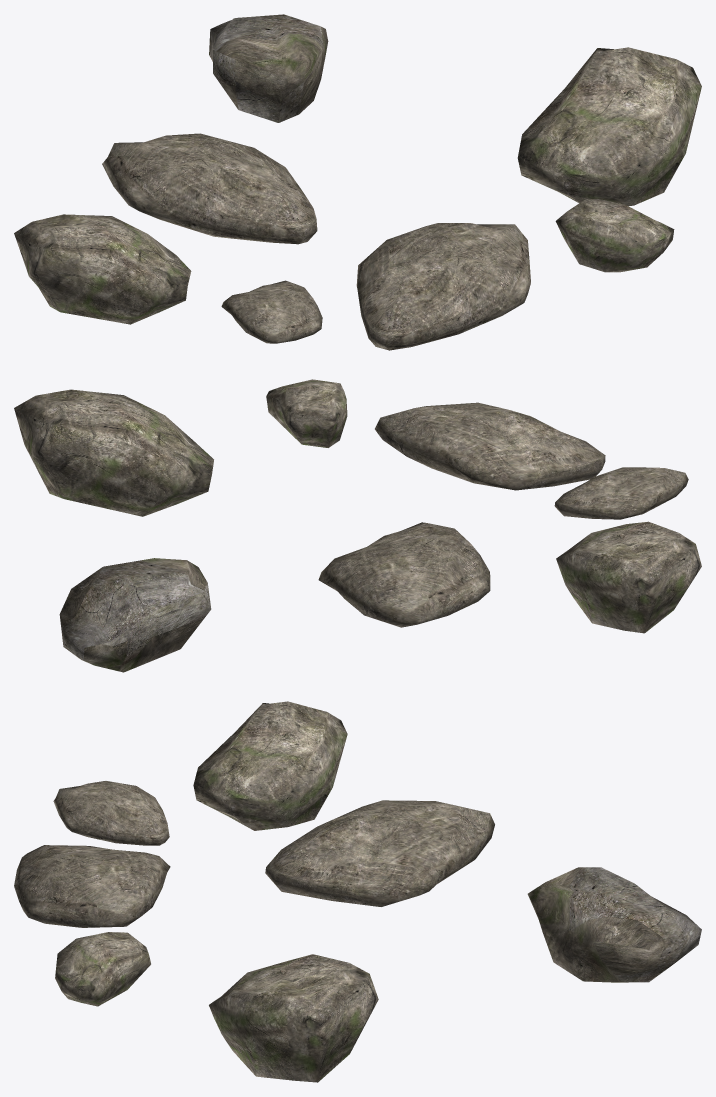
Rendered from rocks.obj.
3 views of the same model, one above another, from view 1: azimuth 30°, elevation 25°; view 2: azimuth 150°, elevation 25°; view 3: azimuth 270°, elevation 25° (orthographic). The views are drawn at different scales.
Parts seen in each view (by area): view 1: rocks; view 2: rocks; view 3: rocks.
Part boxes in pixels (x1,y1,x2,y2): rocks: (14,14,701,350); rocks: (14,379,701,672); rocks: (14,701,701,1082).
Bounding box in the file's own units: 4.16 × 0.7021 × 3.78.
Materials: 3 (3 with a texture image).
